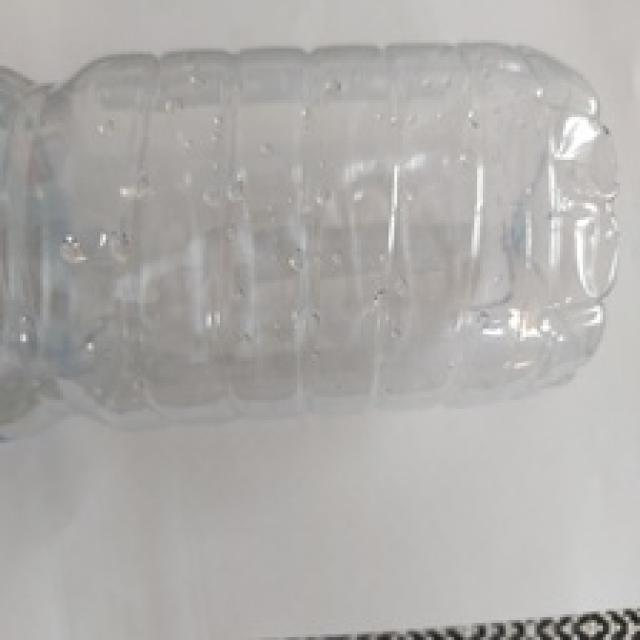Plastic: (0, 41, 623, 445), (608, 432, 610, 436)
